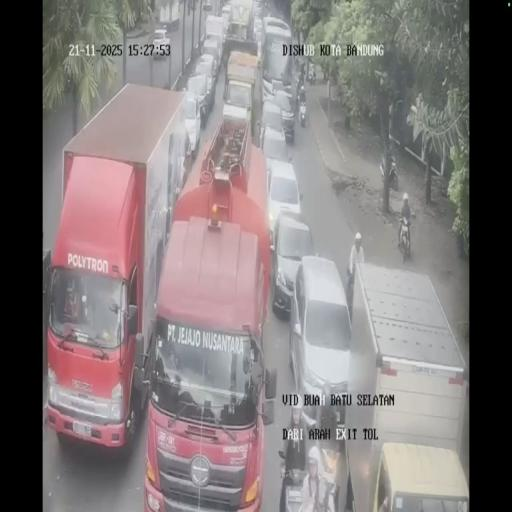3: (46, 83, 192, 455), (260, 17, 294, 97)
car: (271, 209, 316, 318), (259, 100, 287, 154), (200, 36, 222, 80), (252, 16, 263, 48), (221, 4, 231, 32)
truck: (397, 215, 412, 263), (388, 156, 398, 188), (296, 71, 306, 100), (308, 70, 316, 85)
